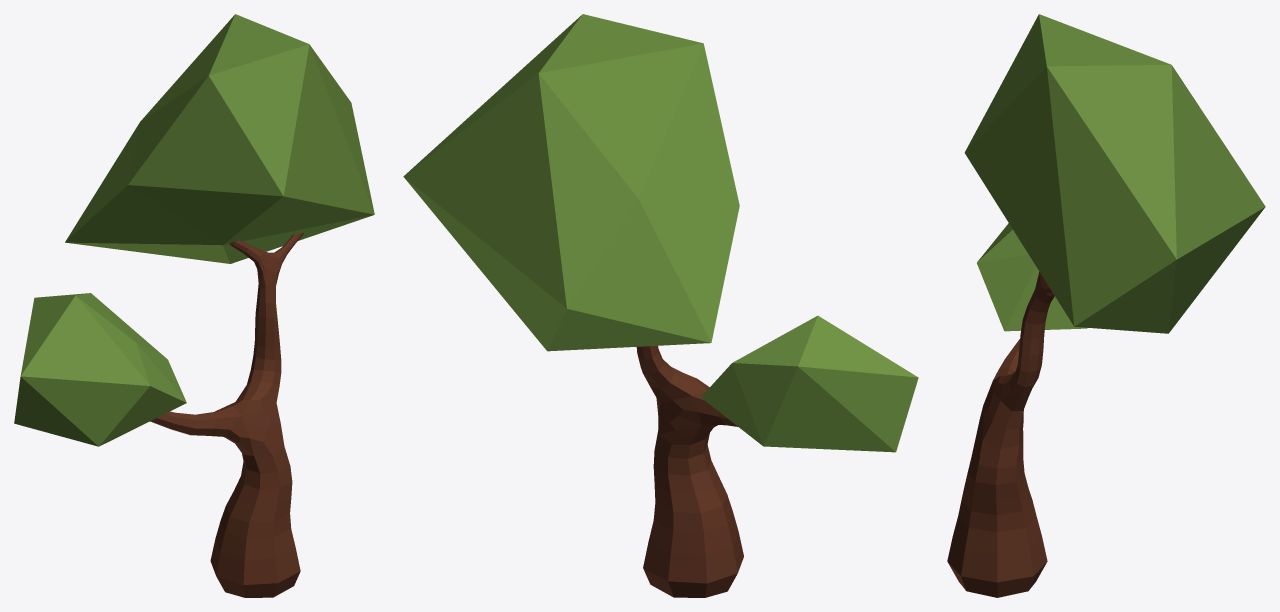
File: tree2_export.fbx
3 views of the same model, side by side, from view 1: azimuth 30°, elevation 25°; view 2: azimuth 150°, elevation 25°; view 3: azimuth 270°, elevation 25° (orthographic). The views are drawn at different scales.
Visible parts, largest first — view 1: Plane.002; view 2: Plane.002; view 3: Plane.002.
Boxes of the visible parts, x1,y1,x2,y2 form: Plane.002: [14, 14, 374, 597]; Plane.002: [403, 14, 918, 597]; Plane.002: [947, 14, 1265, 597].
Bounding box in the file's own units: 928 × 1149 × 588.
